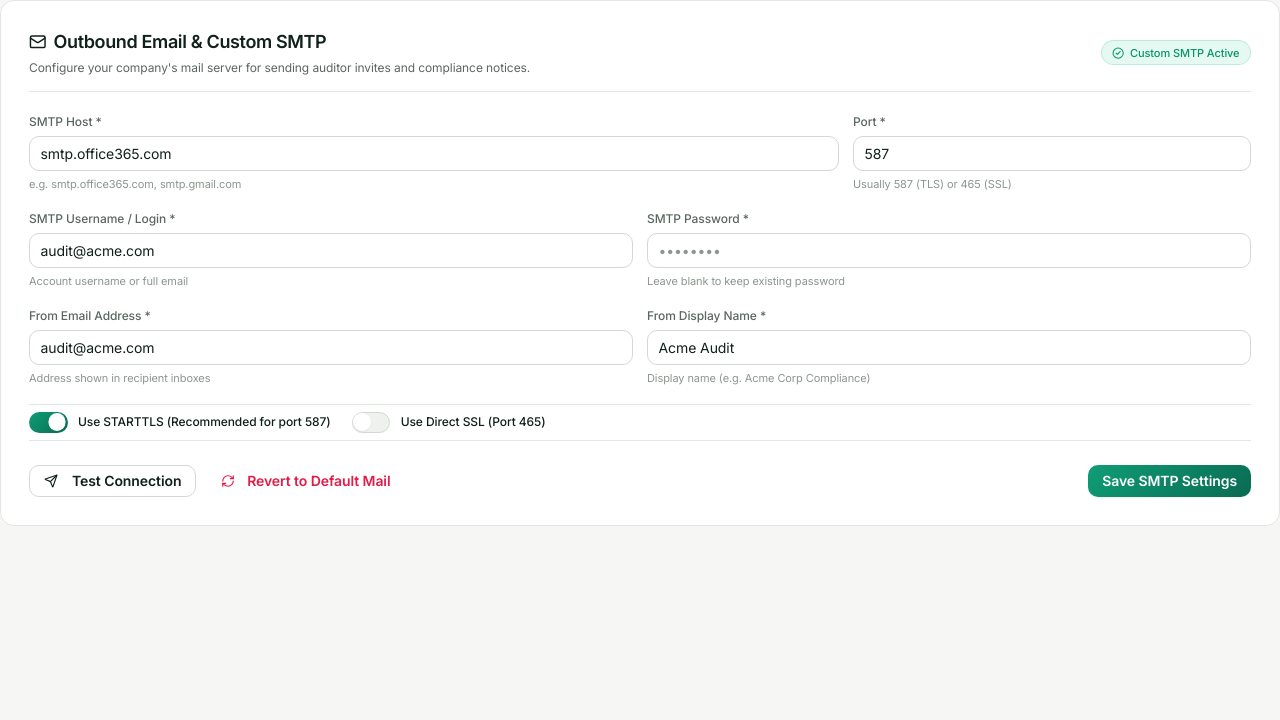
Test: CompanySmtpCard › performs live test connection on click
Click the button "Test Connection" at (113,481), box [29, 465, 196, 496]
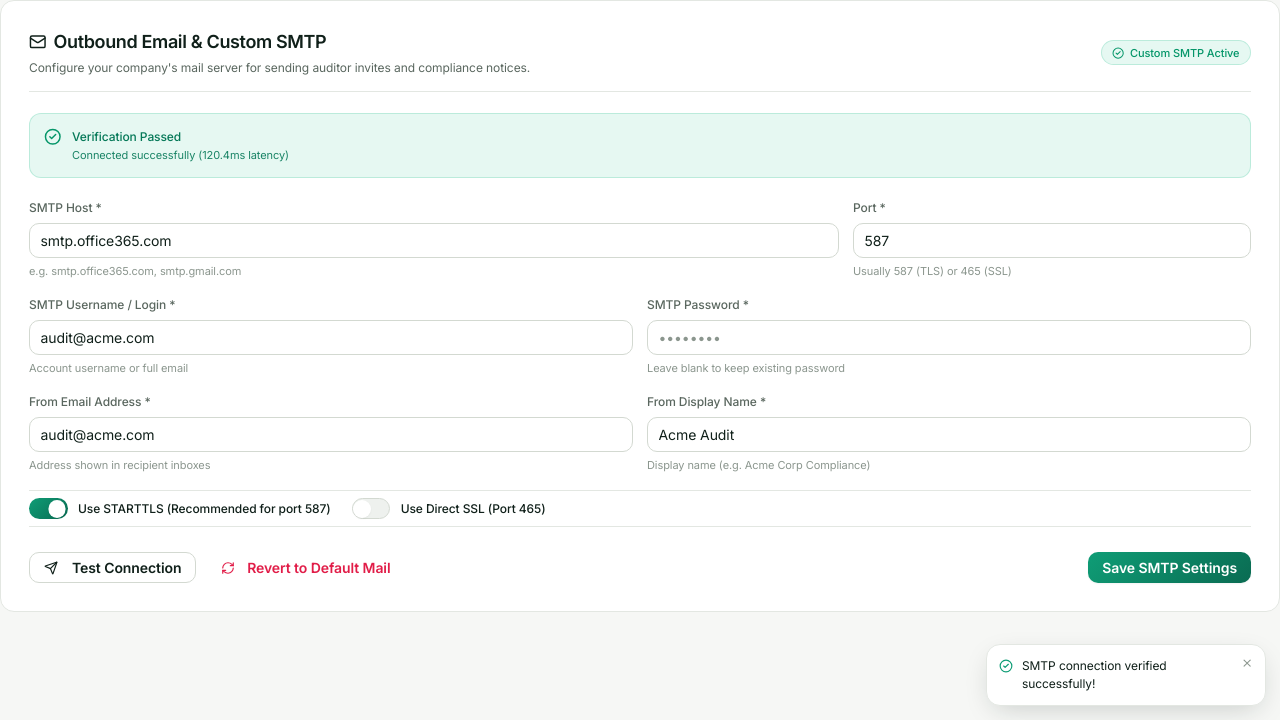
Now the text "Verification Passed" is shown, box [72, 128, 181, 144]
